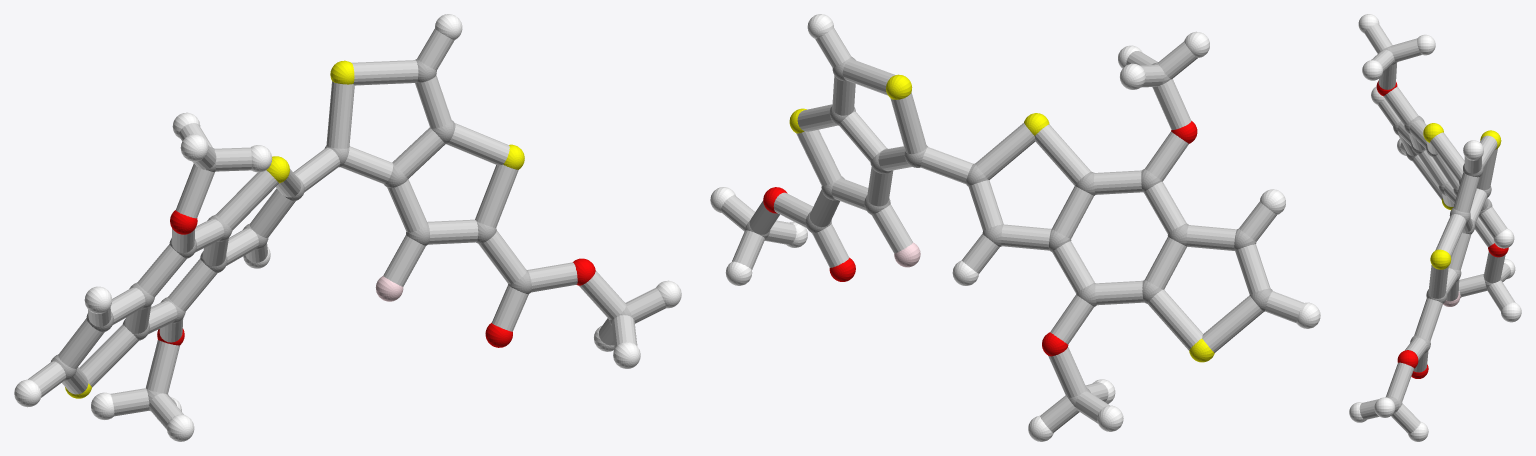
Rendered from color.glb.
3 renders of one model, left to right at view 1: azimuth 30°, elevation 25°; view 2: azimuth 150°, elevation 25°; view 3: azimuth 270°, elevation 25°, orthographic. The views are drawn at different scales.
Parts seen in each view (by area): view 1: grp15205, grp8689, grp1, grp13395, grp7241; view 2: grp15205, grp8689, grp1, grp13395, grp7241; view 3: grp15205, grp8689, grp1, grp7241, grp13395.
Boxes of the visible parts, x1,y1,x2,y2 form: grp15205: [28, 29, 666, 429]; grp8689: [14, 14, 681, 441]; grp1: [51, 59, 632, 411]; grp13395: [157, 210, 595, 347]; grp7241: [65, 60, 524, 398]; grp15205: [721, 28, 1303, 432]; grp8689: [710, 14, 1320, 441]; grp1: [745, 56, 1272, 406]; grp13395: [763, 121, 1197, 356]; grp7241: [789, 74, 1214, 362]; grp15205: [1359, 24, 1515, 433]; grp8689: [1349, 14, 1521, 441]; grp1: [1383, 46, 1501, 408]; grp7241: [1423, 123, 1501, 269]; grp13395: [1376, 81, 1508, 378].
Bounding box in the file's own units: 16.23 × 8.93 × 4.96.
